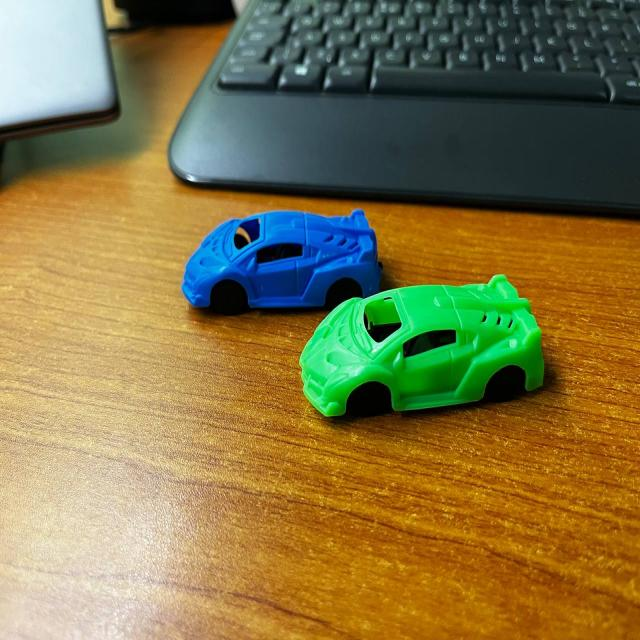car: (291, 277, 552, 436), (180, 206, 388, 315)
